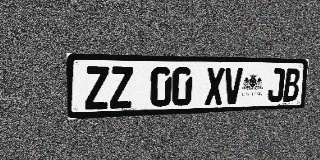0: (150, 67, 172, 107), (171, 67, 193, 106)
B: (283, 68, 301, 102)
J: (267, 68, 285, 103)
V: (223, 68, 243, 104)
X: (205, 68, 225, 105)
Z: (84, 66, 109, 110), (110, 67, 133, 109)
